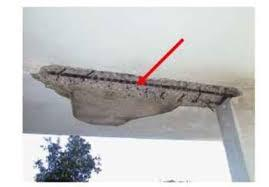spalling: (31, 64, 244, 109)
